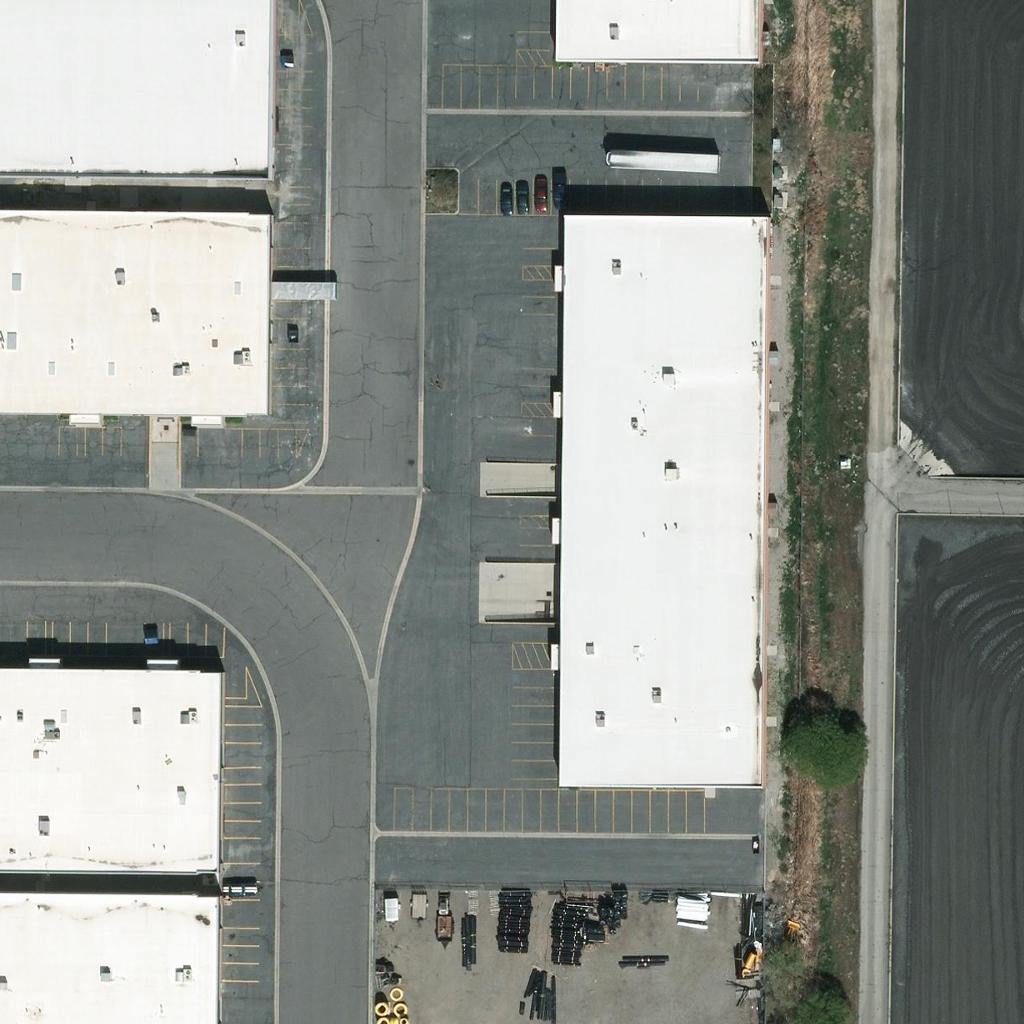car: (523, 176, 557, 210), (543, 176, 577, 210), (490, 181, 524, 215), (504, 182, 538, 216)
